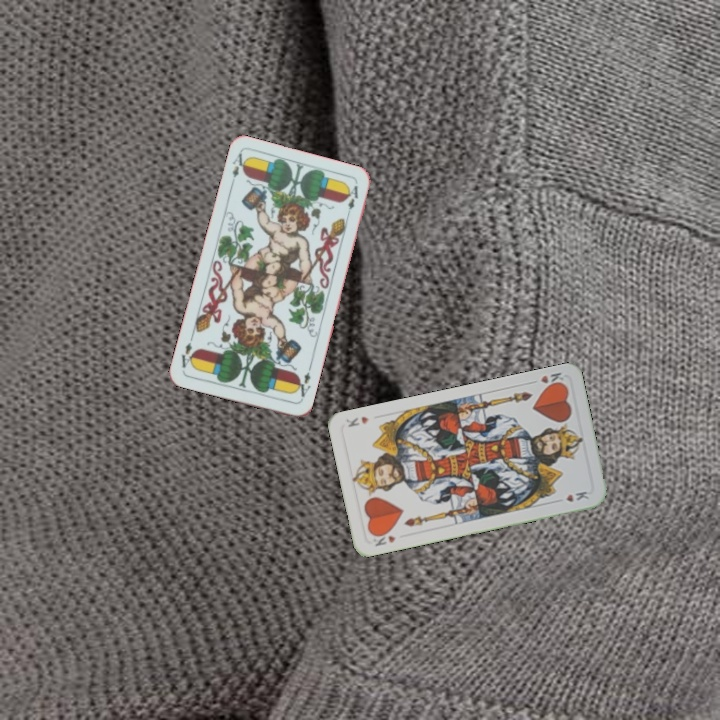EA: (227, 149, 250, 189), (291, 363, 313, 403)
HK: (526, 368, 568, 391), (367, 527, 398, 549)
